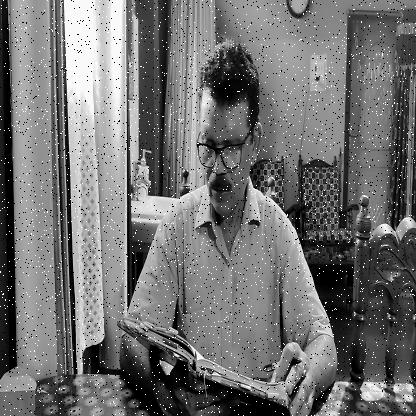Normal: (198, 41, 260, 222)
